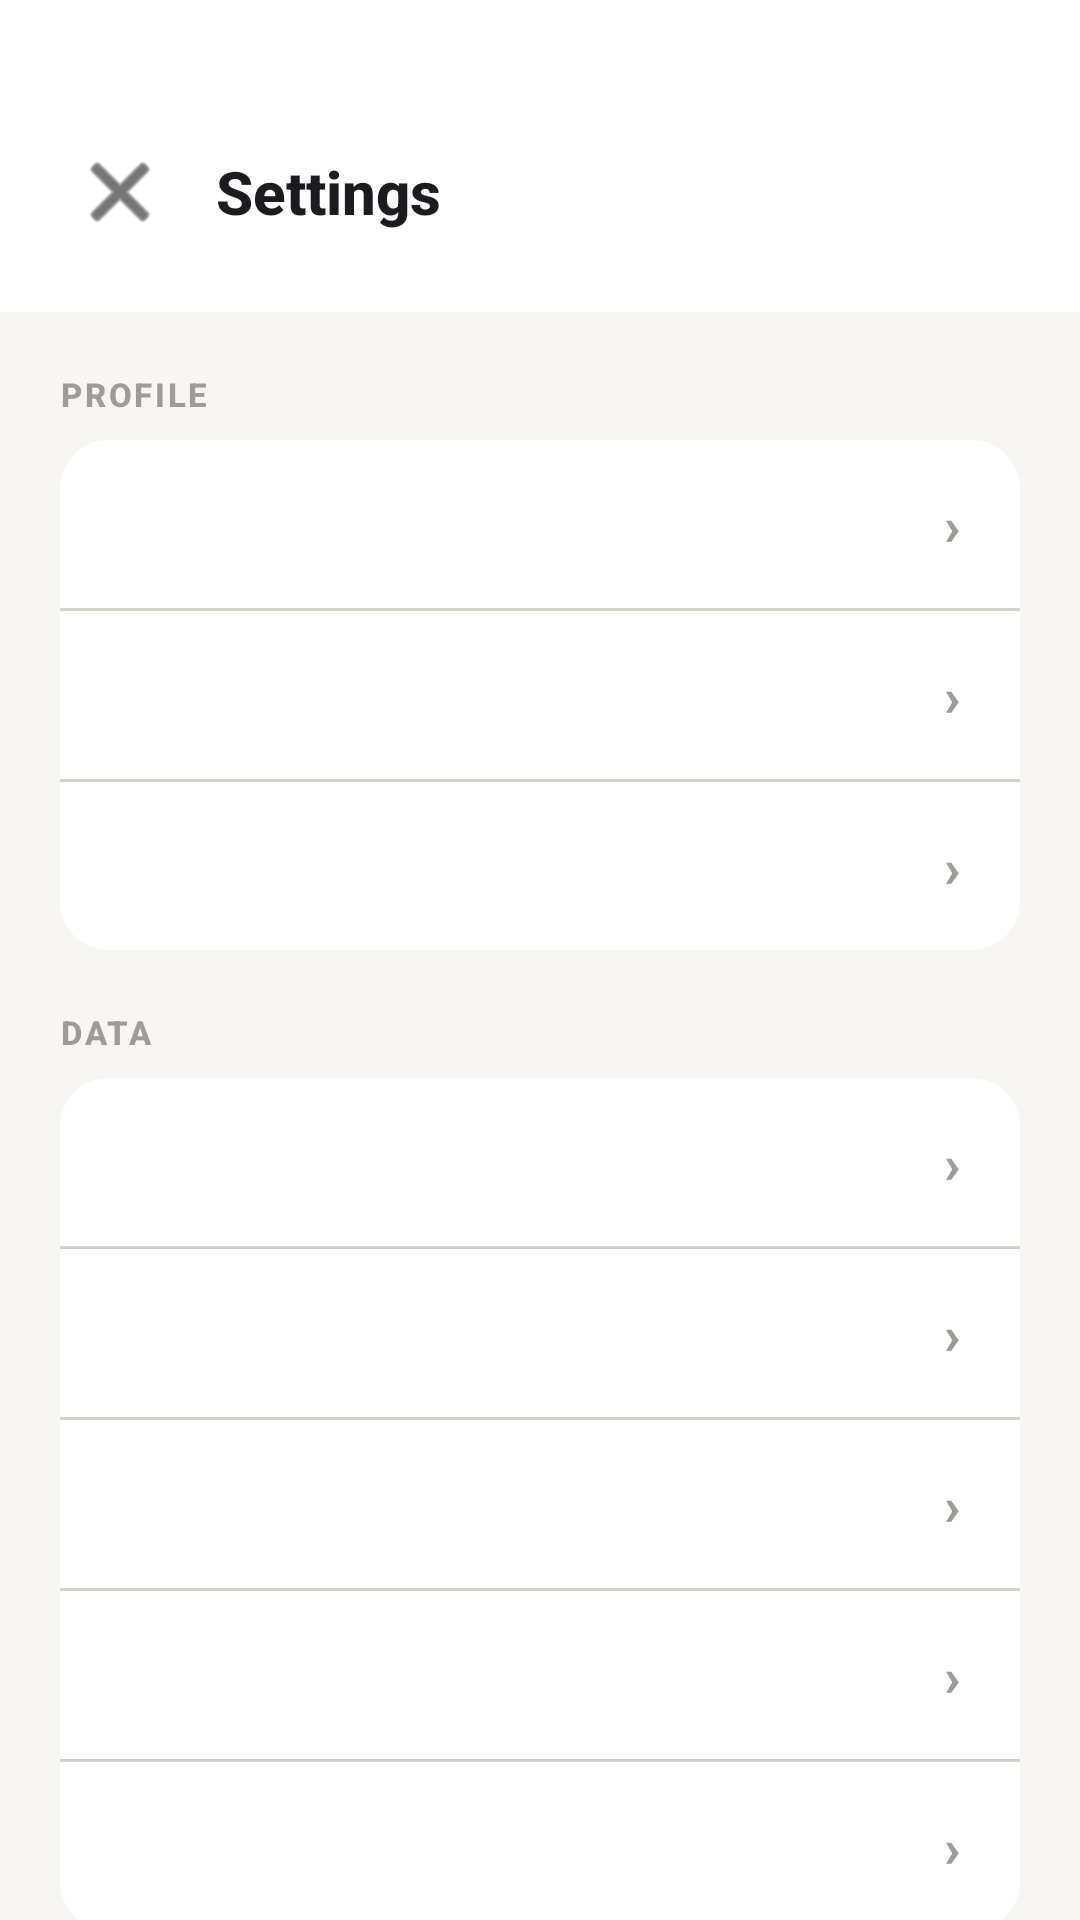

Icon bounding boxes for this 1080 x 1920 phone screenshot, format (x1, y1, x2, y2):
close clear cancel: (90, 162, 150, 222)
